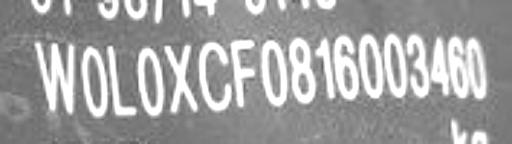letter: (28, 37, 78, 116), (196, 39, 234, 116), (162, 39, 198, 116), (283, 34, 317, 108), (225, 34, 259, 108), (104, 42, 138, 116), (78, 42, 110, 119), (136, 45, 166, 119), (258, 36, 288, 108), (382, 28, 410, 102), (330, 31, 360, 99), (402, 31, 432, 99), (356, 31, 384, 102), (425, 31, 453, 102), (443, 34, 471, 99), (312, 34, 338, 102), (462, 36, 488, 102)
